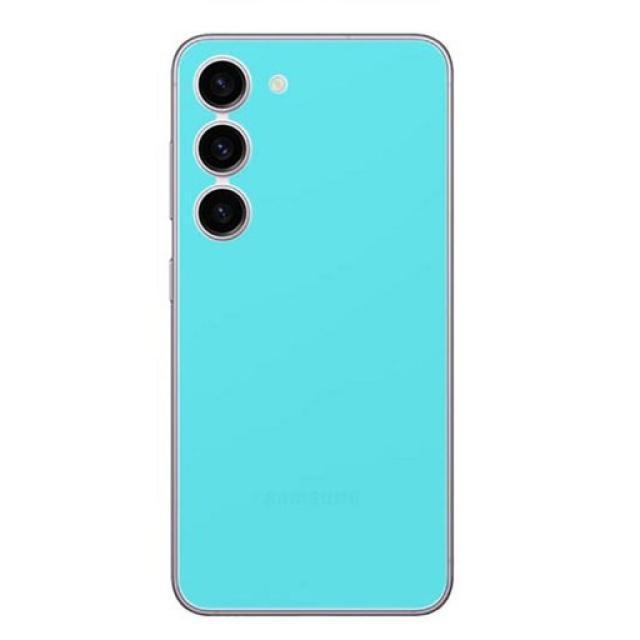phone: (167, 30, 457, 618)
